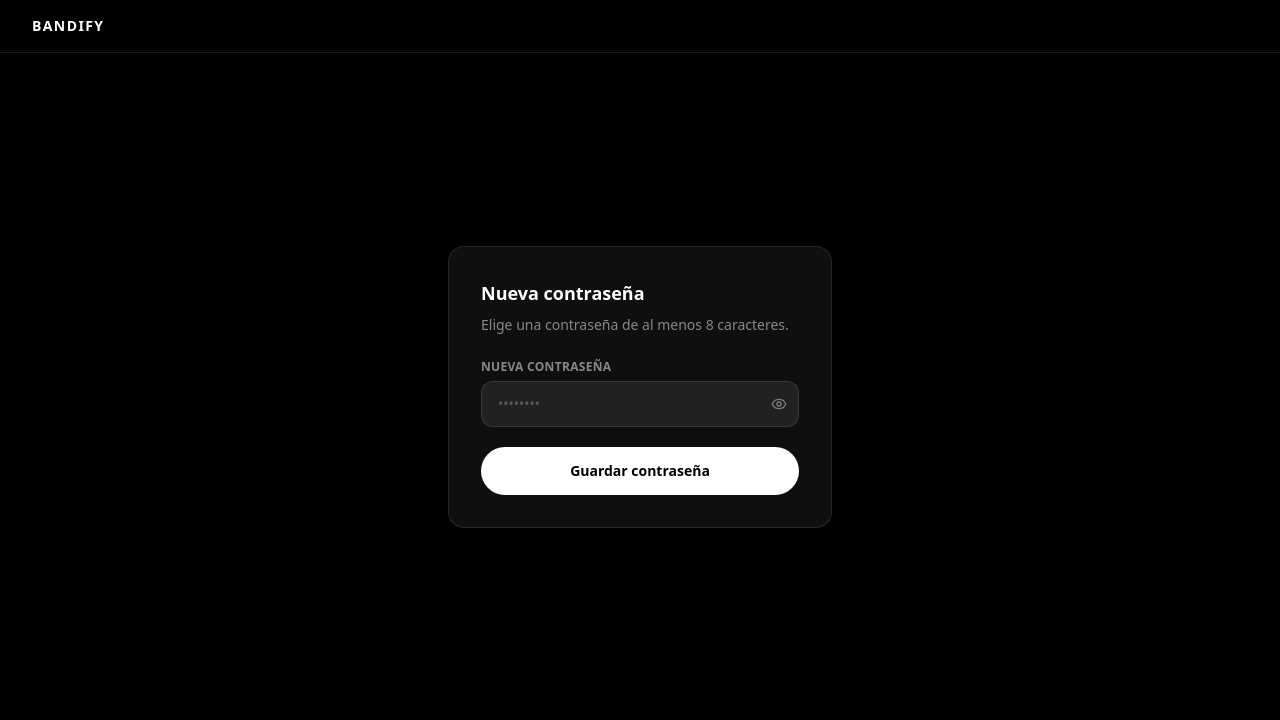
Auth — recuperar / restablecer contraseña › muestra un error si el token de reset es inválido o expiró
The width and height of the screenshot is (1280, 720).
Type "clave-nueva-123" into the password field named "password".
click(640, 404); type("clave-nueva-123")  # box [481,380,799,426]
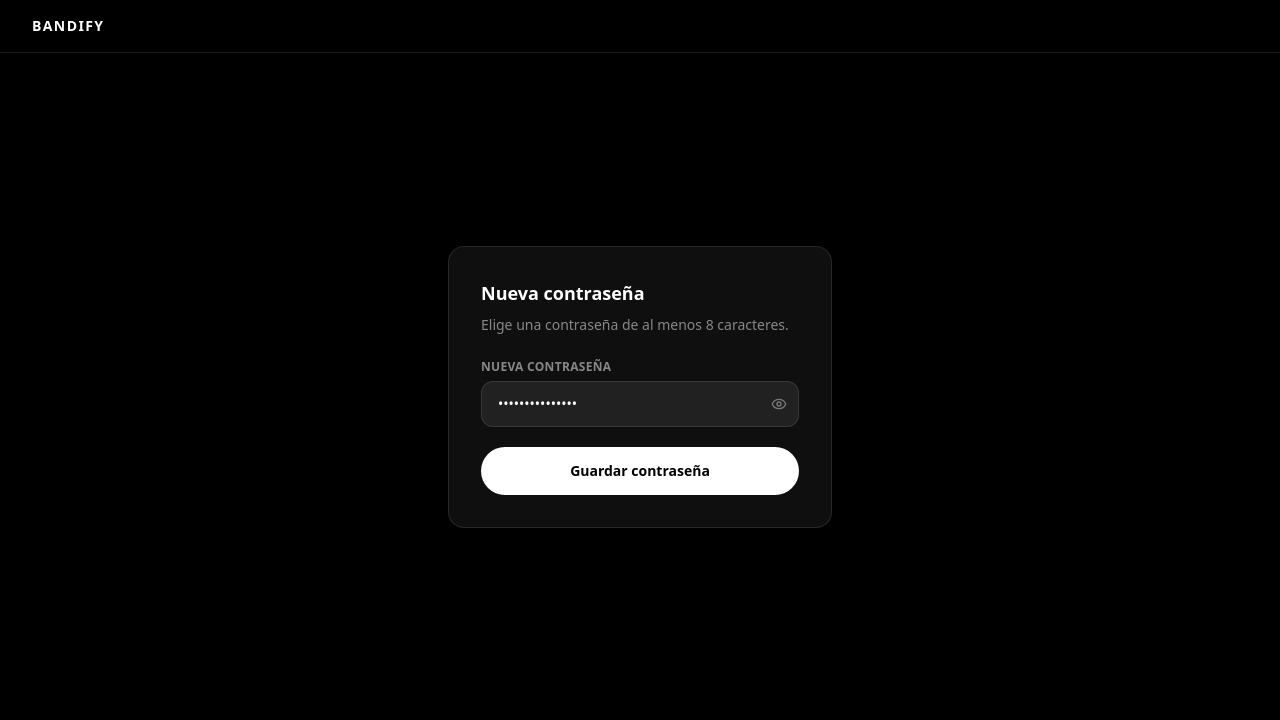
Click the submit button.
click(640, 470)  # box [481,446,799,494]
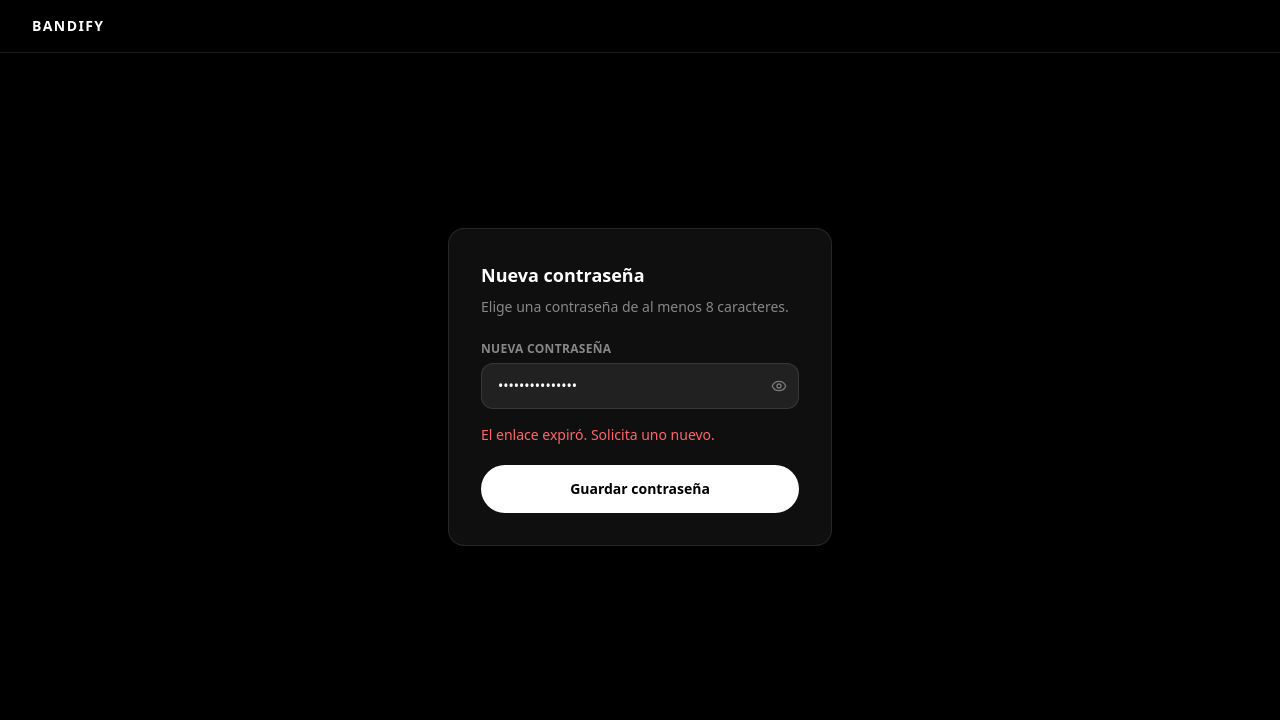
Expected: the text "El enlace expiró. Solicita uno nuevo." is shown, [481,424,715,444]
